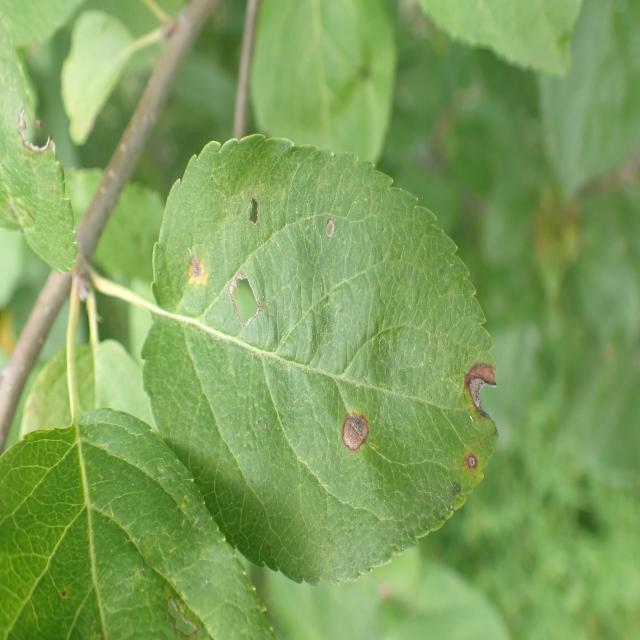frog-eye-leaf-spot: (140, 131, 500, 587)
